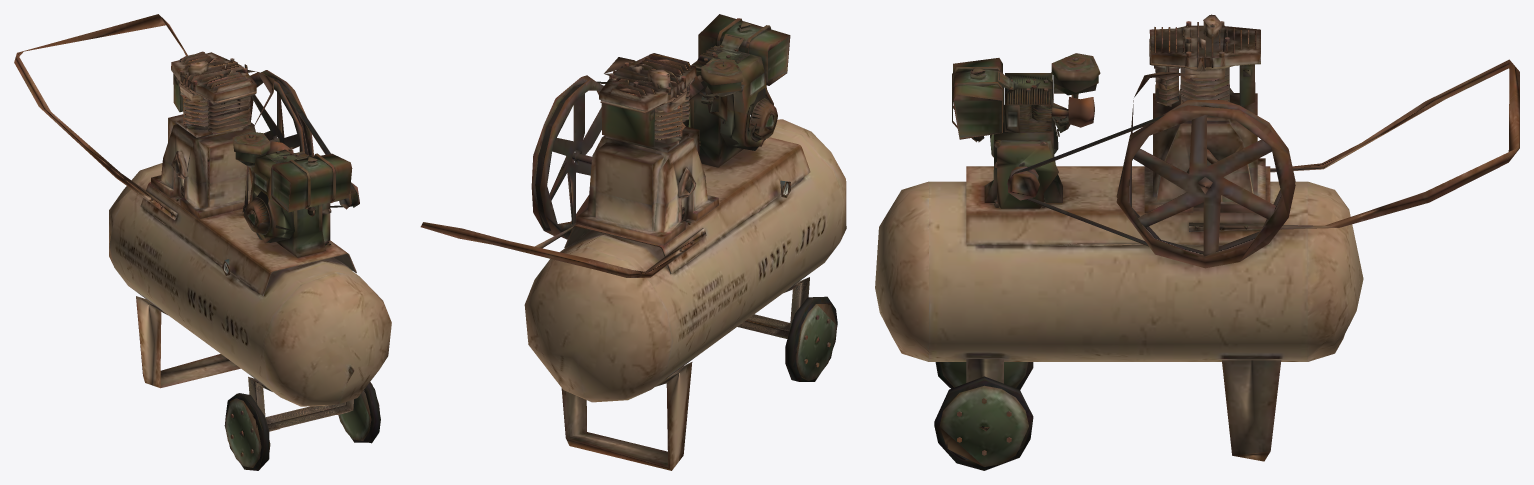
File: compressor.glb
3 views of the same model, side by side, from view 1: azimuth 30°, elevation 25°; view 2: azimuth 150°, elevation 25°; view 3: azimuth 270°, elevation 25° (orthographic). The views are drawn at different scales.
Parts seen in each view (by area): view 1: old_military_compressor; view 2: old_military_compressor; view 3: old_military_compressor.
Boxes of the visible parts, x1,y1,x2,y2 form: old_military_compressor: (14, 14, 391, 470); old_military_compressor: (420, 14, 846, 470); old_military_compressor: (875, 14, 1519, 470).
Bounding box in the file's own units: 0.5782 × 1.16 × 1.66.
2 materials, 2 textured.
